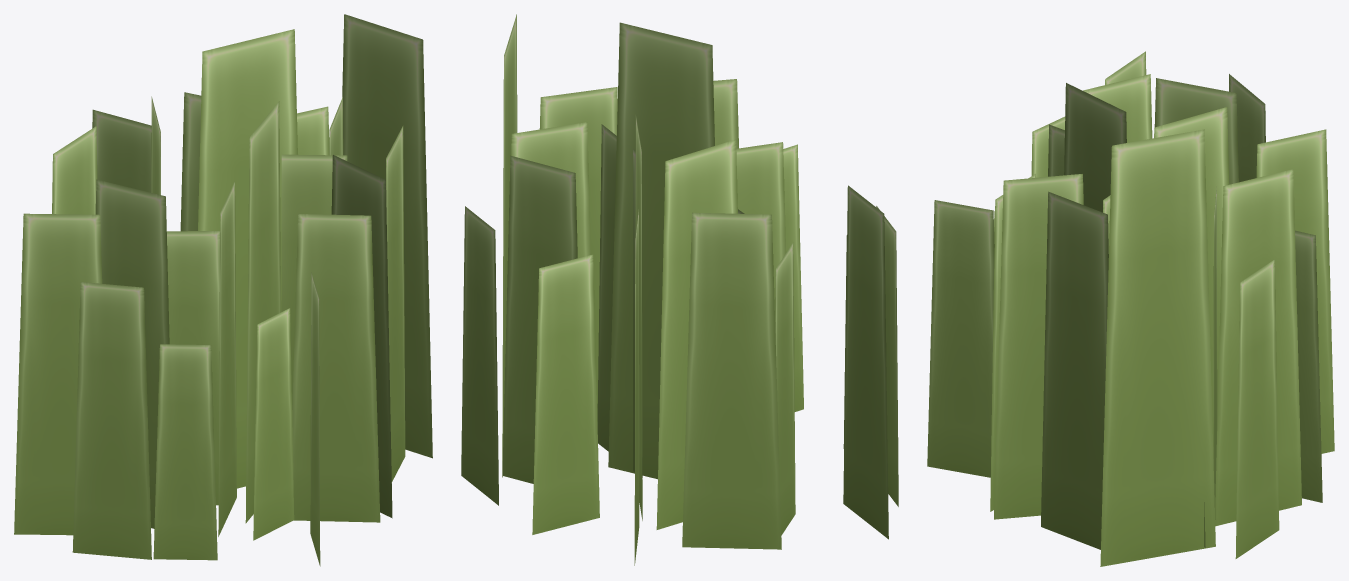
File: SM_Grass_01_A.fbx
3 renders of one model, left to right at view 1: azimuth 30°, elevation 25°; view 2: azimuth 150°, elevation 25°; view 3: azimuth 270°, elevation 25°, orthographic.
Visible parts, largest first — view 1: pPlane59; view 2: pPlane59; view 3: pPlane59.
Boxes of the visible parts, x1,y1,x2,y2 form: pPlane59: [14, 14, 432, 566]; pPlane59: [461, 14, 898, 565]; pPlane59: [927, 51, 1334, 566].
Size of the model in its own units: 19.05 by 20.6 by 16.93.
